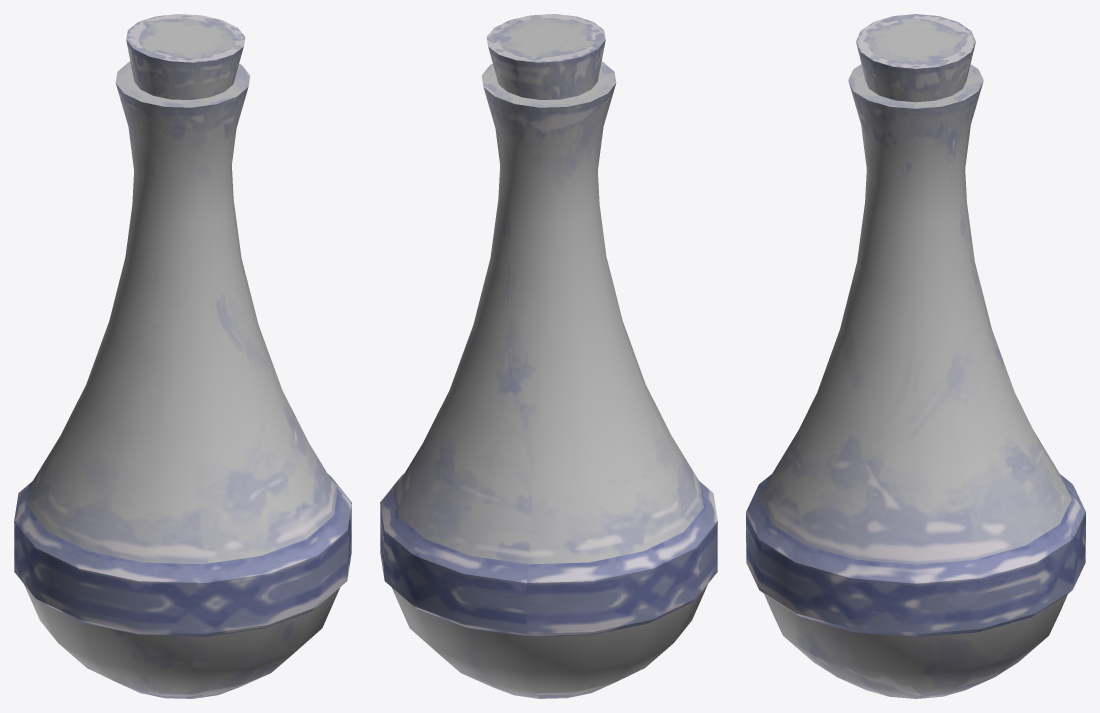
The model's file is Potion_8.fbx.
The picture shows the model from 3 angles, left to right: view 1: azimuth 30°, elevation 25°; view 2: azimuth 150°, elevation 25°; view 3: azimuth 270°, elevation 25°; orthographic projection.
Visible parts, largest first — view 1: Potion_8; view 2: Potion_8; view 3: Potion_8.
Part boxes in pixels (x1,y1,x2,y2): Potion_8: (14, 14, 351, 698); Potion_8: (380, 14, 717, 698); Potion_8: (746, 14, 1085, 698).
Size of the model in its own units: 12.76 by 26.15 by 12.76.
